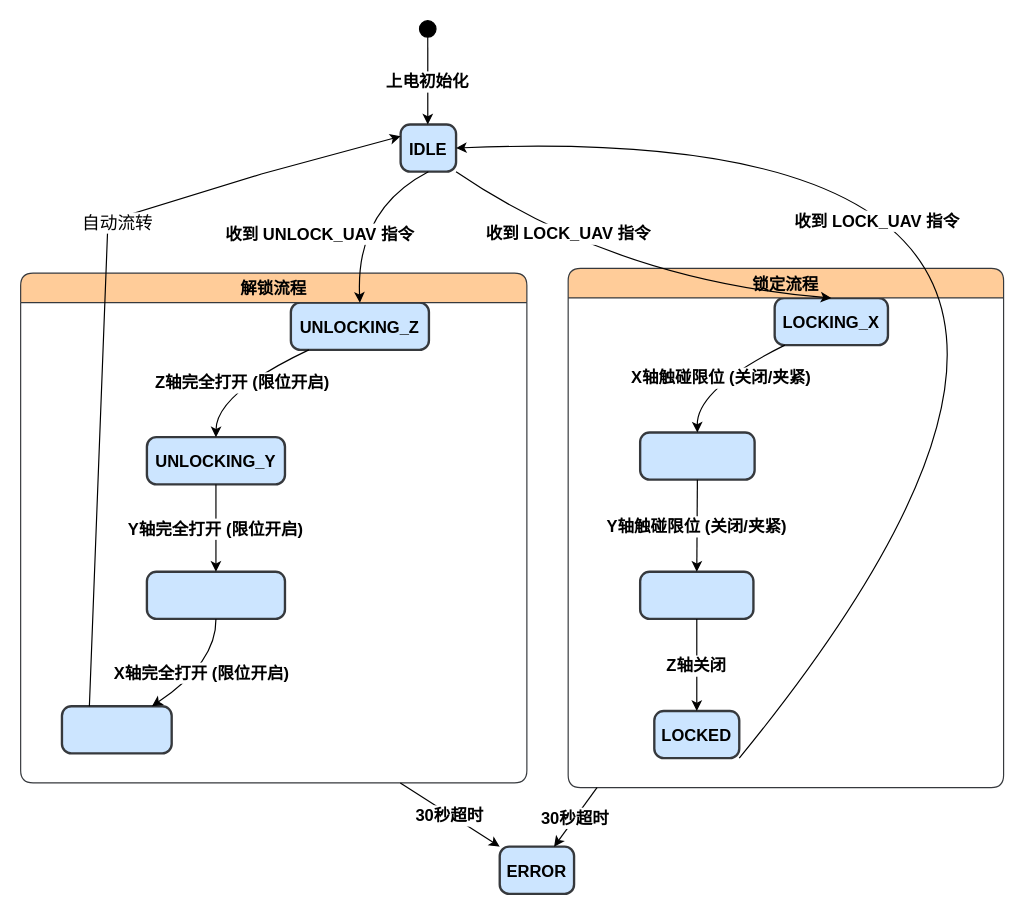
This 1024x916 diagram has some shape labels left out. The centre of each missing label's shape, as x and y in pixels:
"LOCKING_Y" goes at [696,455].
"LOCKING_Z" goes at [696,595].
"UNLOCKED" goes at [116,729].
"UNLOCKING_X" goes at [215,595].
